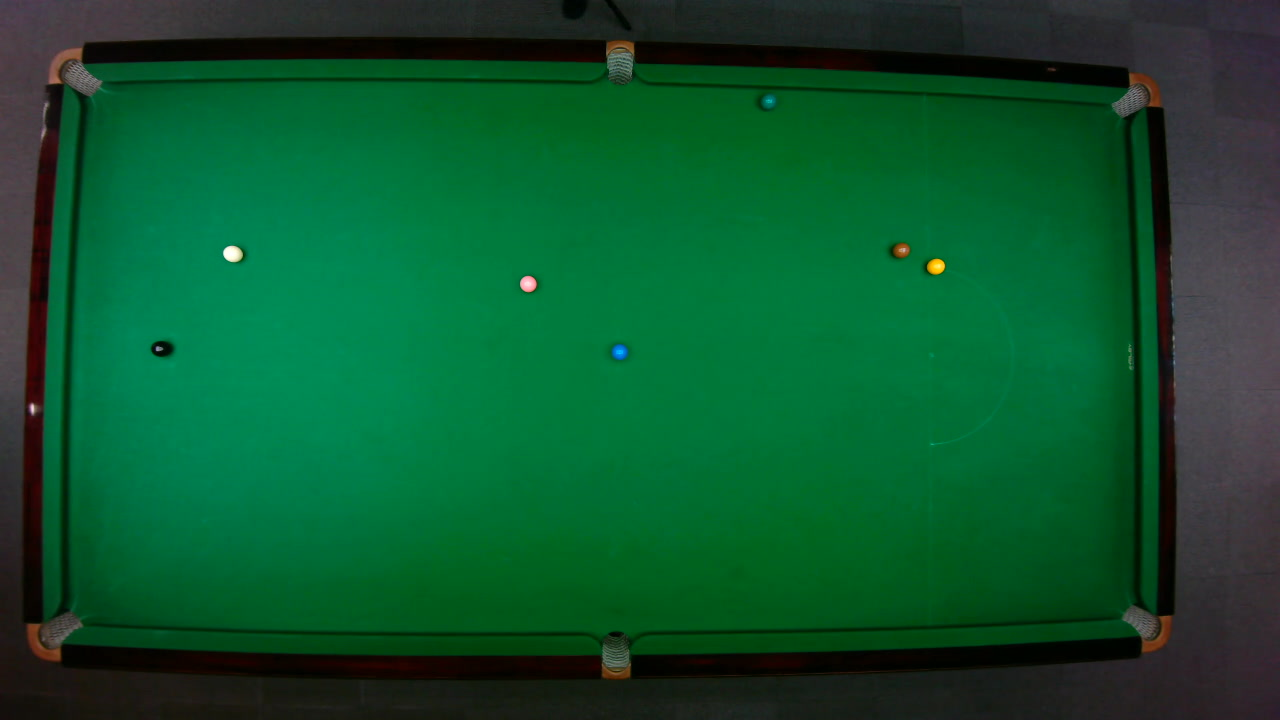bag: (24, 609, 84, 661), (45, 46, 102, 96), (1119, 603, 1171, 652), (1108, 71, 1161, 118), (600, 629, 629, 680), (605, 38, 633, 85)
black: (149, 339, 171, 357)
blue: (610, 343, 628, 360)
brown: (890, 241, 911, 258)
green: (758, 92, 776, 110)
pink: (518, 274, 537, 292)
white: (221, 244, 244, 262)
yellow: (925, 257, 946, 275)
zone: (927, 266, 1013, 445)
